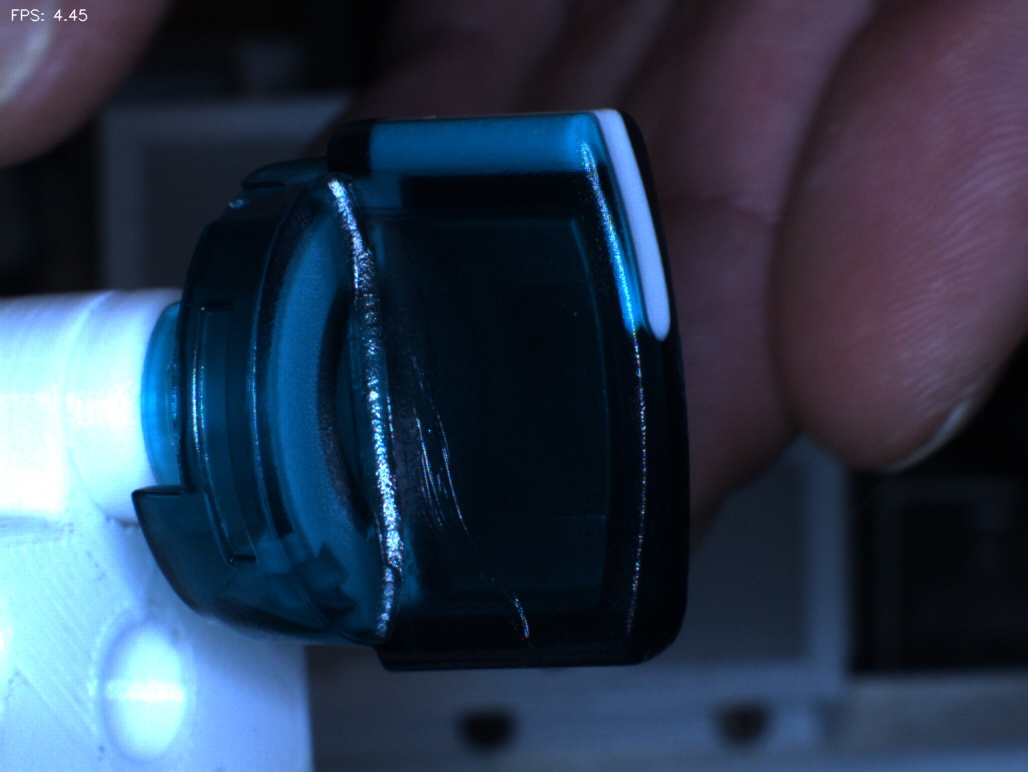Givrage: (400, 351, 551, 653)
